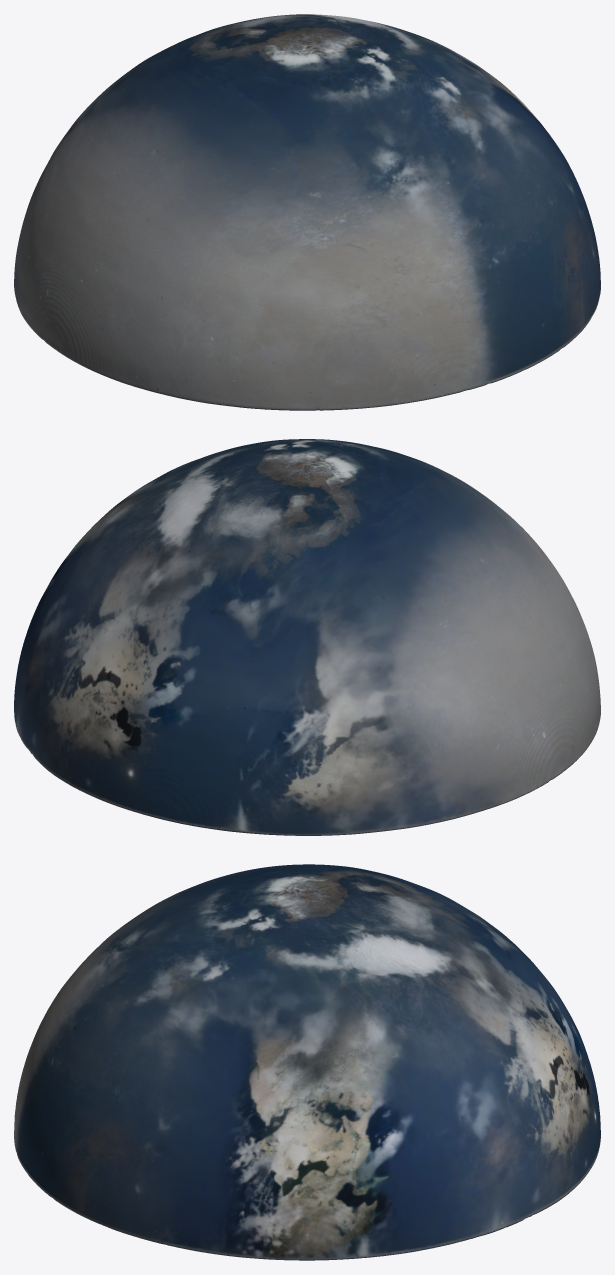
The model's file is earth.glb.
The picture shows the model from 3 angles, top to bottom: view 1: azimuth 30°, elevation 25°; view 2: azimuth 150°, elevation 25°; view 3: azimuth 270°, elevation 25°; orthographic projection.
Size of the model in its own units: 2 by 0.9205 by 2.
Materials: 1 (1 with a texture image).
